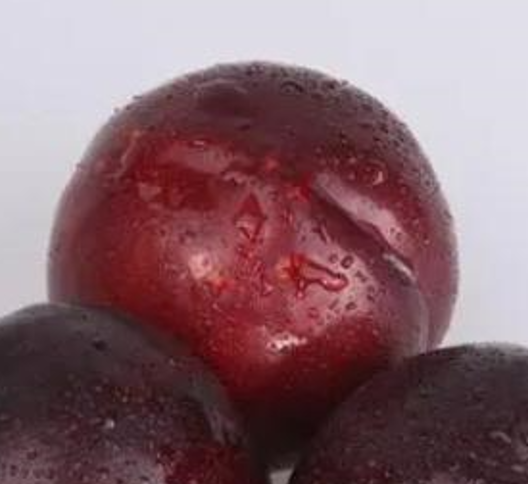plum_A: (44, 63, 461, 475)
